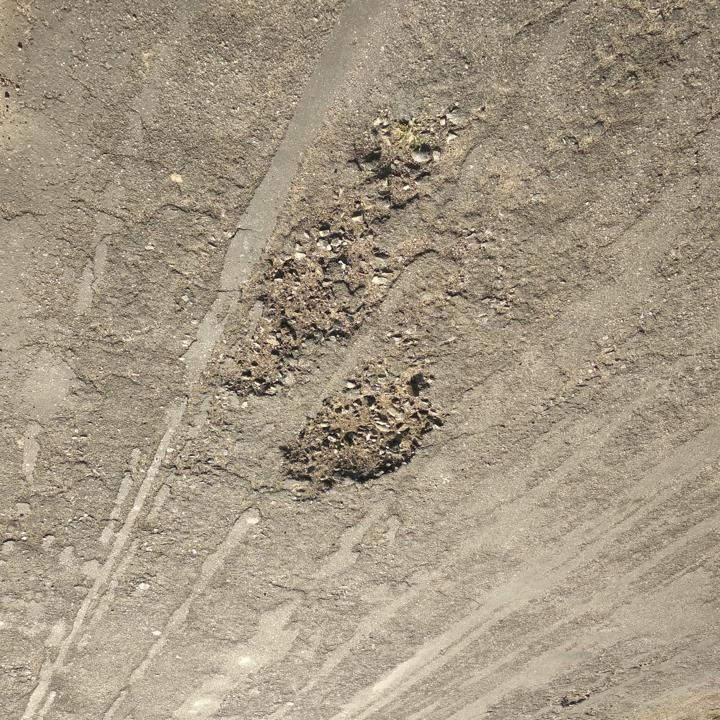pothole: (217, 111, 456, 398), (277, 362, 445, 505)
